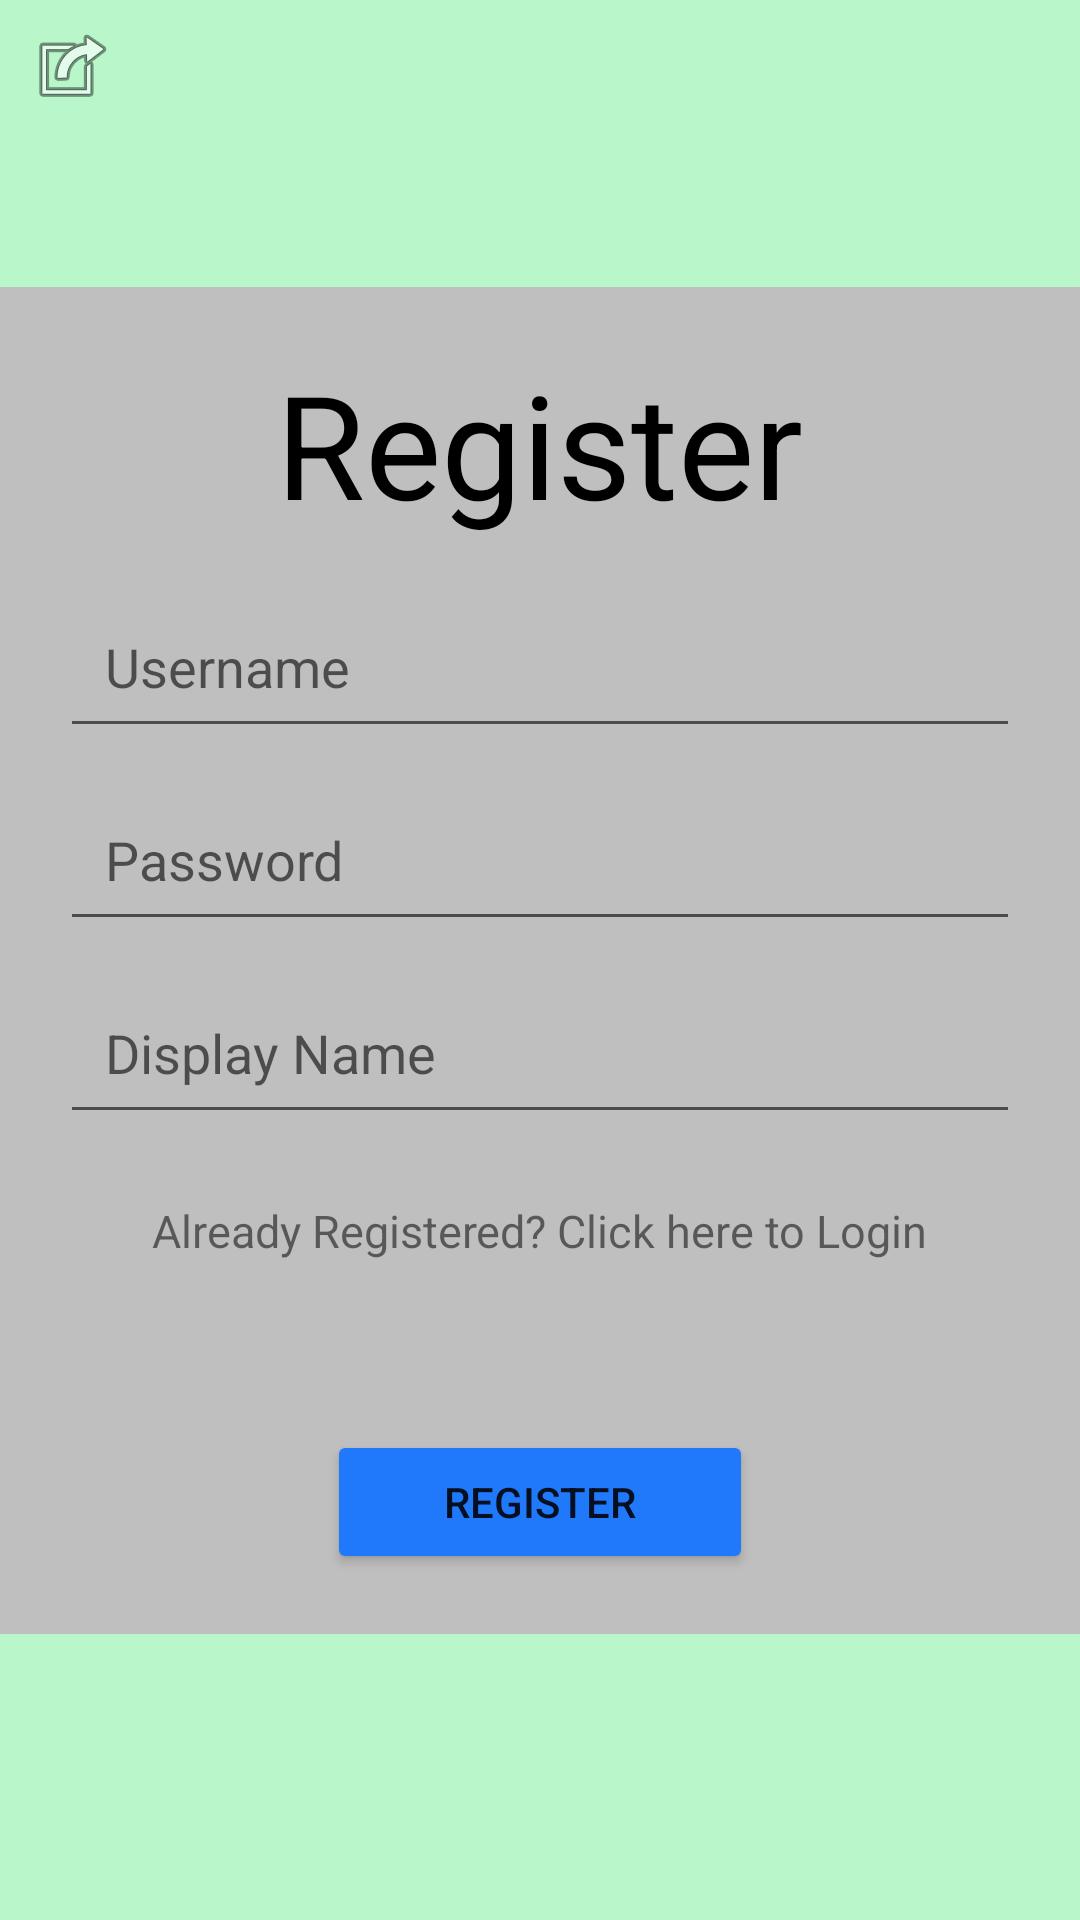

Where to tap for icons on this 1080 x 1920 app screen, as point (x, y):
set as: point (73, 65)
